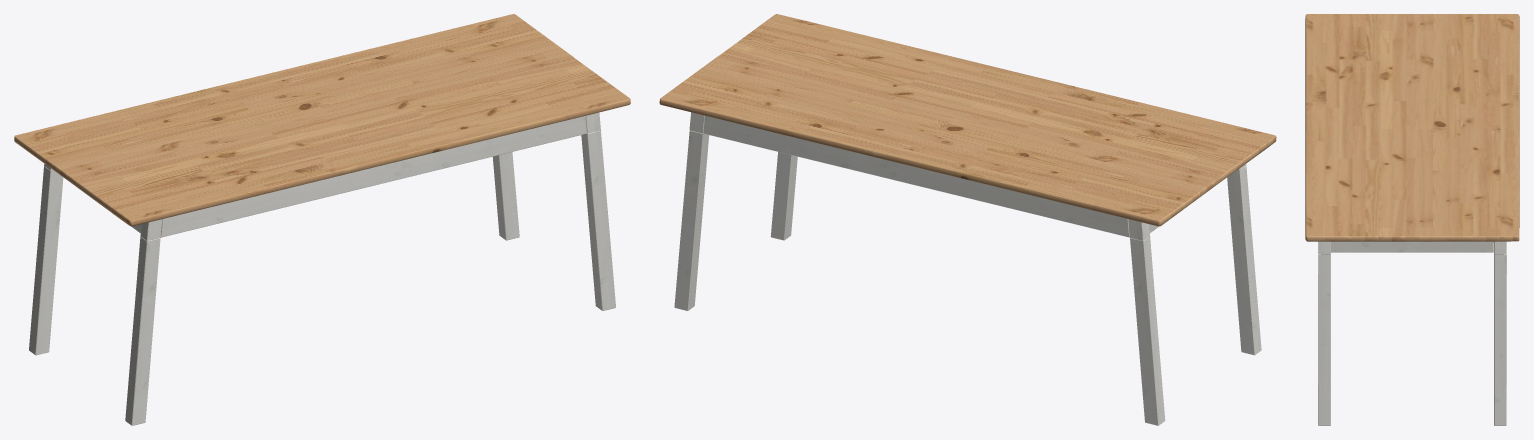
The model's file is PINNTORP_00529459.glb.
3 views of the same model, side by side, from view 1: azimuth 30°, elevation 25°; view 2: azimuth 150°, elevation 25°; view 3: azimuth 270°, elevation 25° (orthographic). The views are drawn at different scales.
Visible parts, largest first — view 1: model; view 2: model; view 3: model.
Boxes of the visible parts, x1,y1,x2,y2 form: model: [14, 14, 630, 425]; model: [659, 14, 1276, 425]; model: [1305, 14, 1519, 425].
Bounding box in the file's own units: 1.85 × 0.7503 × 0.7503.
Materials: 1 (1 with a texture image).
